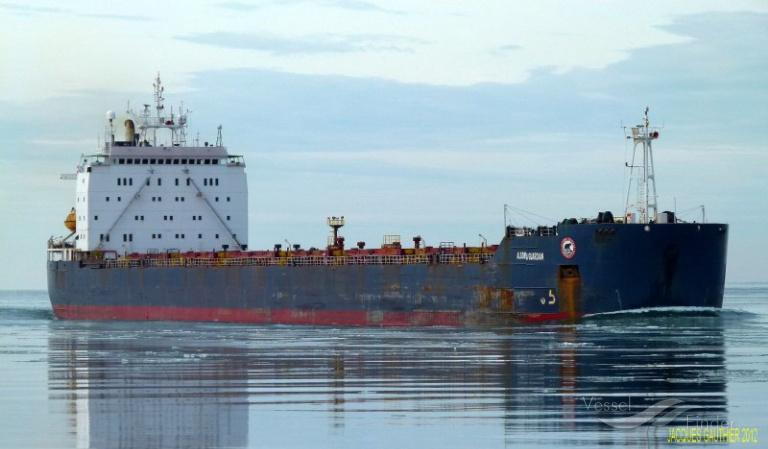OCR: (512, 244, 548, 268)
